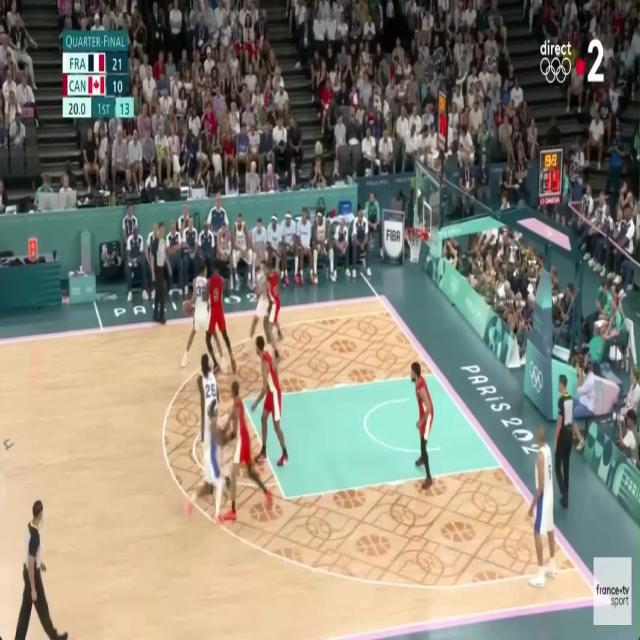ball_handler: (181, 262, 208, 368)
